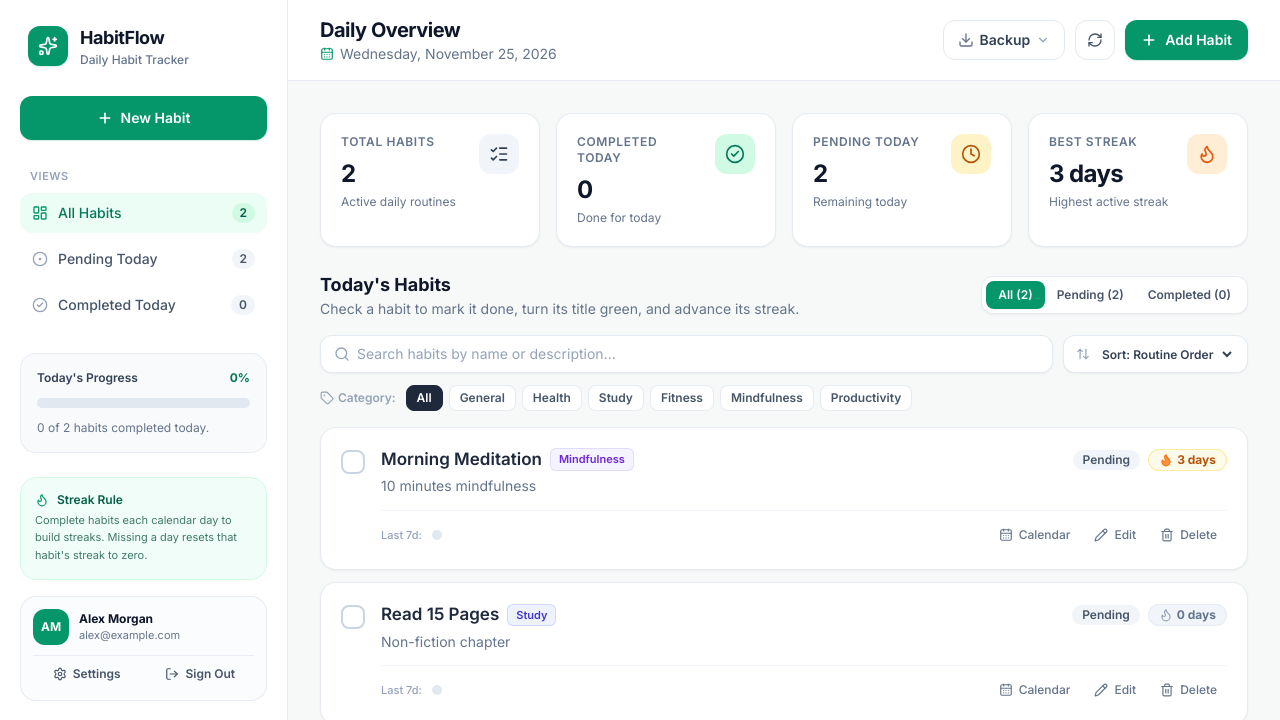
HabitFlow v2.0 Production UI: Auth, Multi-User Dashboard, Search/Sort & Heatmap › opens the Monthly Calendar Heatmap modal, opens Mobile Drawer, and exports CSV history
Later steps or results of the test are not shown.
Expected: the checkbox "Morning Meditation" is shown, 381,448 -> 542,471
Click the button named "View calendar heatmap for \"Morning Meditation\"" at coordinates (1035, 535), box 989,521 -> 1080,549
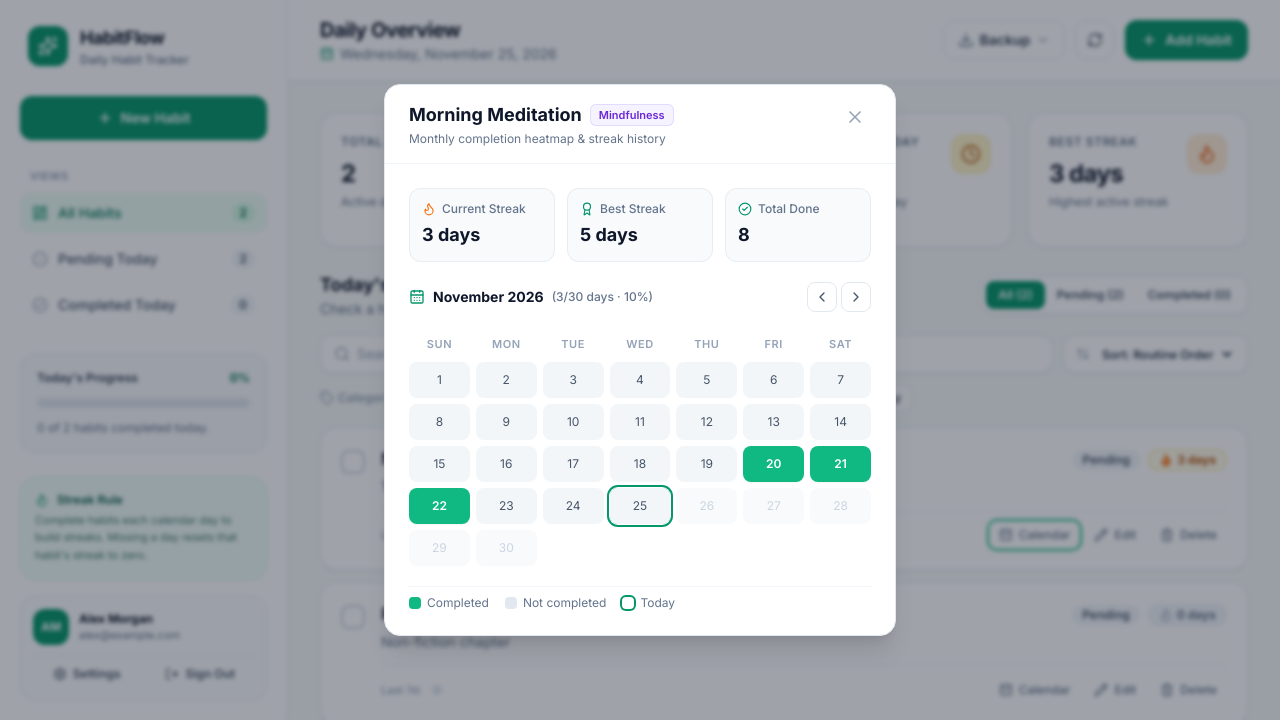
Expected: the text with test id "calendar-longest-streak" reads "5 days", 580,224 -> 638,245
